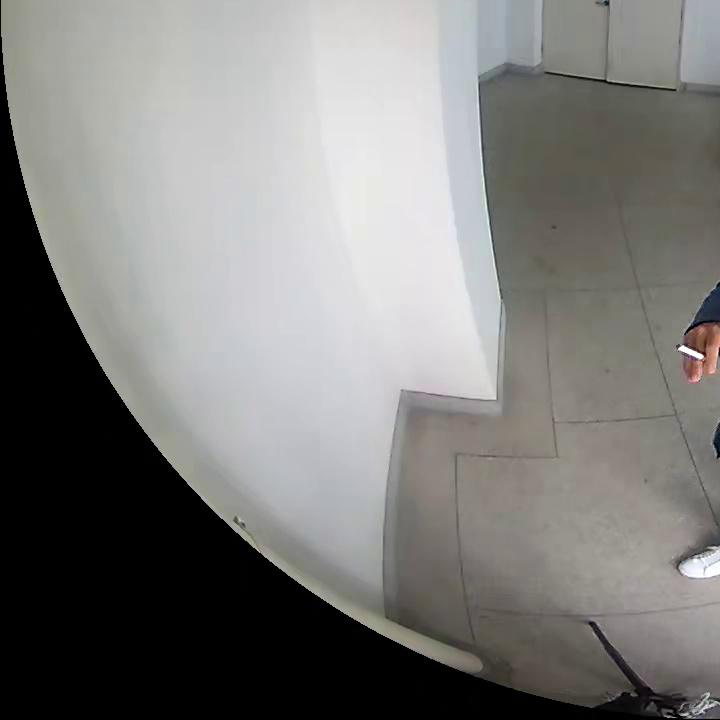handsmoke: (679, 327, 720, 381)
